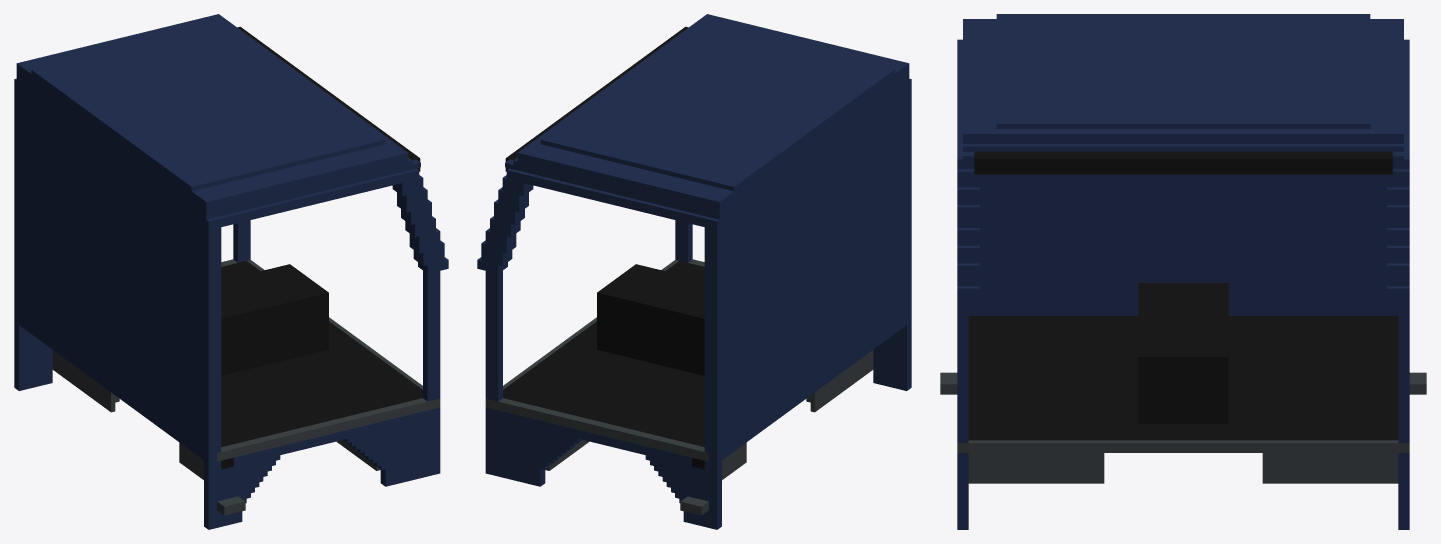
The model's file is box_truck_cab.glb.
3 renders of one model, left to right at view 1: azimuth 30°, elevation 25°; view 2: azimuth 150°, elevation 25°; view 3: azimuth 270°, elevation 25°, orthographic. The views are drawn at different scales.
Visible parts, largest first — view 1: body:compound; view 2: body:compound; view 3: body:compound.
Boxes of the visible parts, x1,y1,x2,y2 form: body:compound: [14, 14, 448, 529]; body:compound: [477, 14, 911, 529]; body:compound: [940, 14, 1426, 529].
Bounding box in the file's own units: 1.78 × 2.34 × 2.69.
